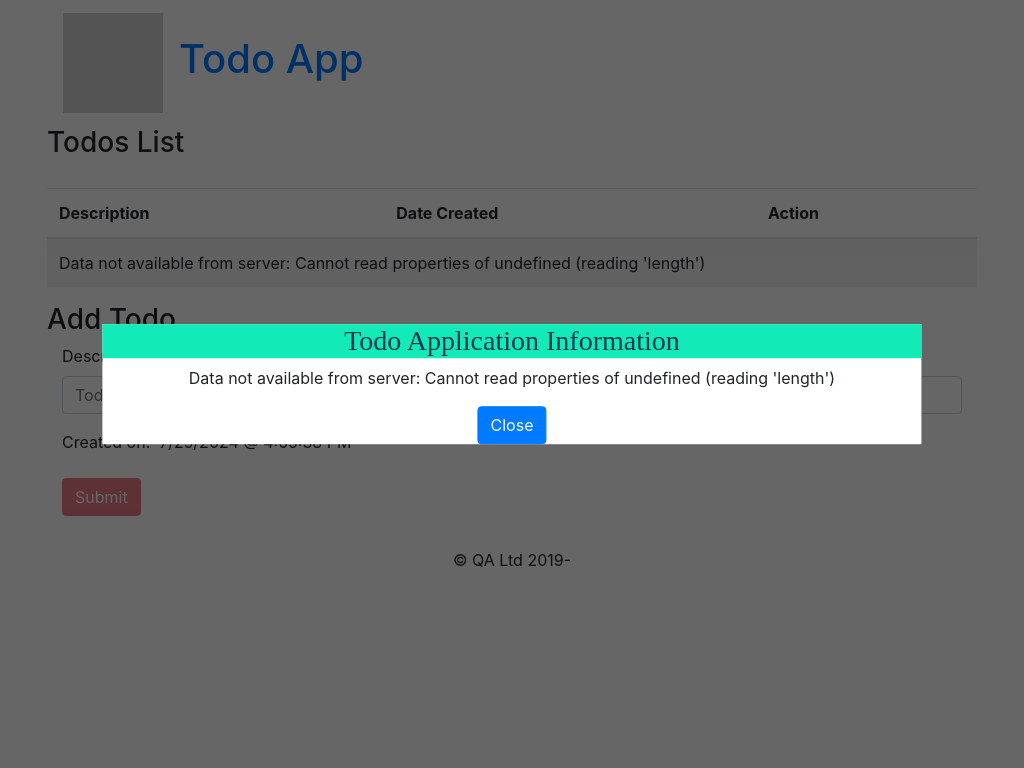
Conditional renders dependent on result of data calls › should close the modal for a put error when the button to close it is clicked
What coordinates should you click on to do the following:
click the button "Close"
I would click on:
 (512, 425)
Its box is 478,406 -> 546,444.
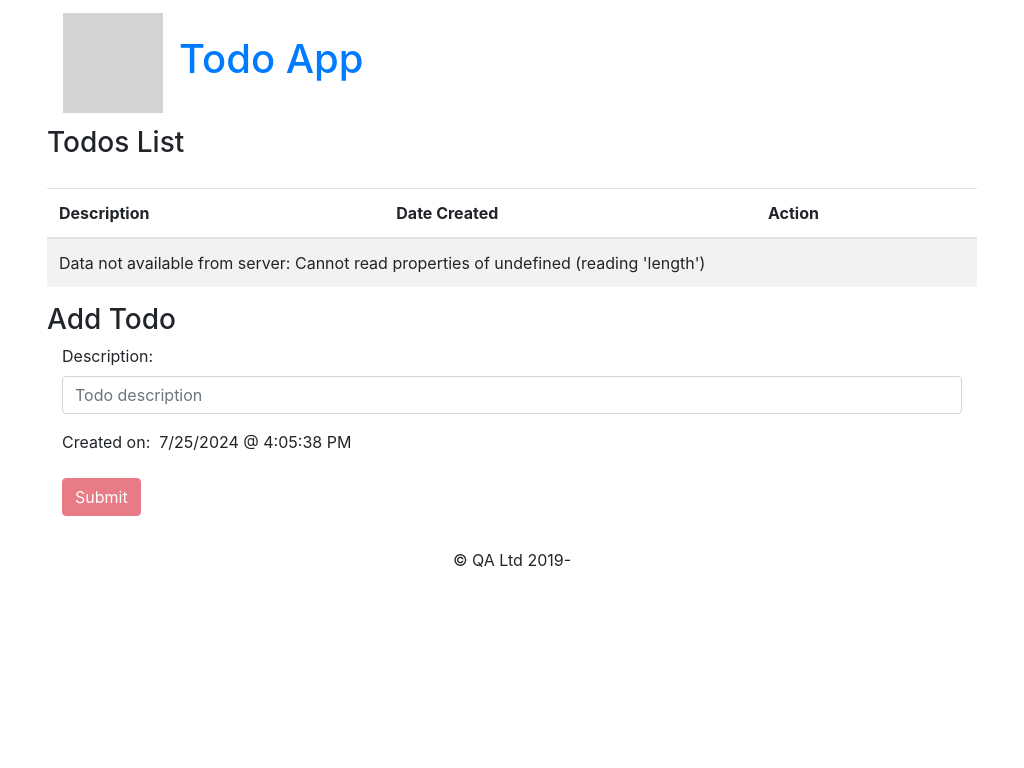
Expected: the button "Close" is gone
